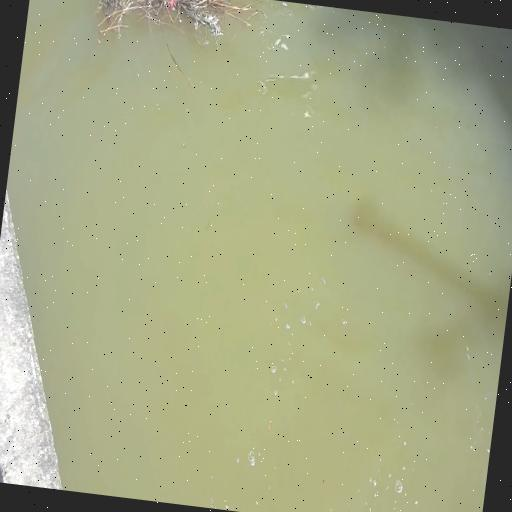twig: (89, 0, 240, 52)
